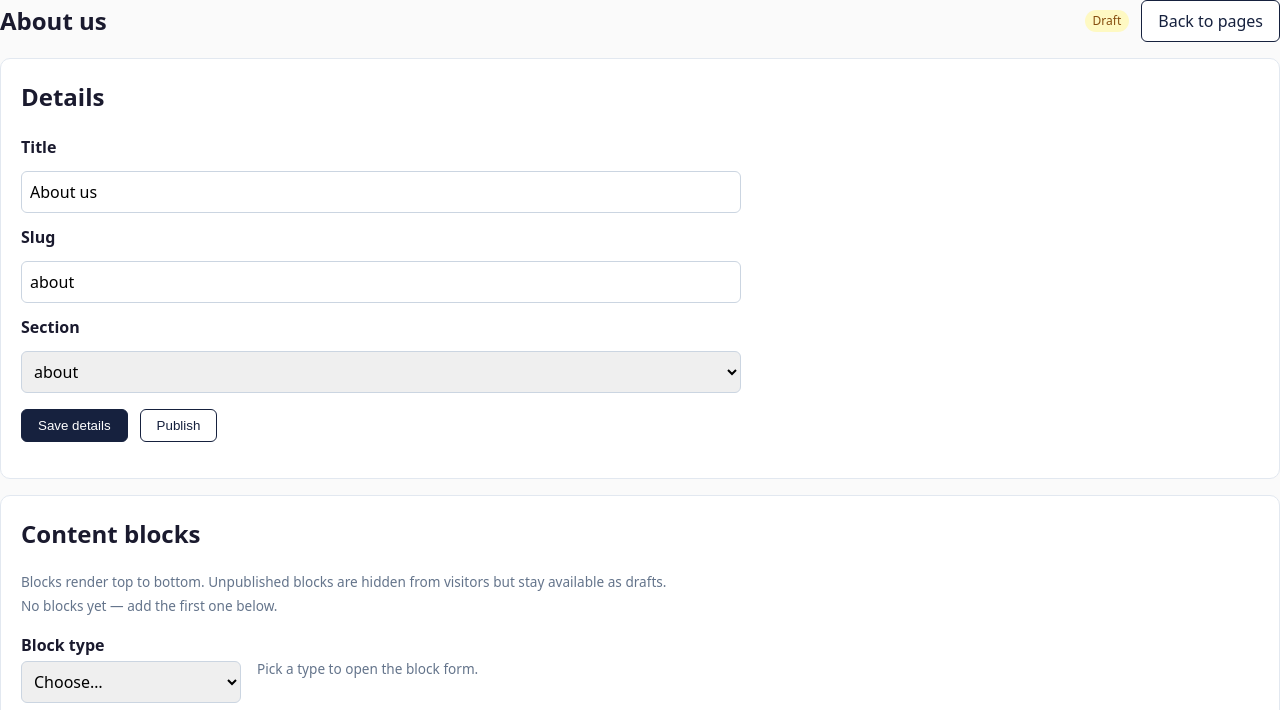
Scenario: admin page workflows › saves only dirty page fields and invalidates narrow query keys
The image size is (1280, 710).
Expected: the field showing "About us" is shown, [21,171,741,213]
Click the button "Save details" at (74, 425), box [21,409,128,442]
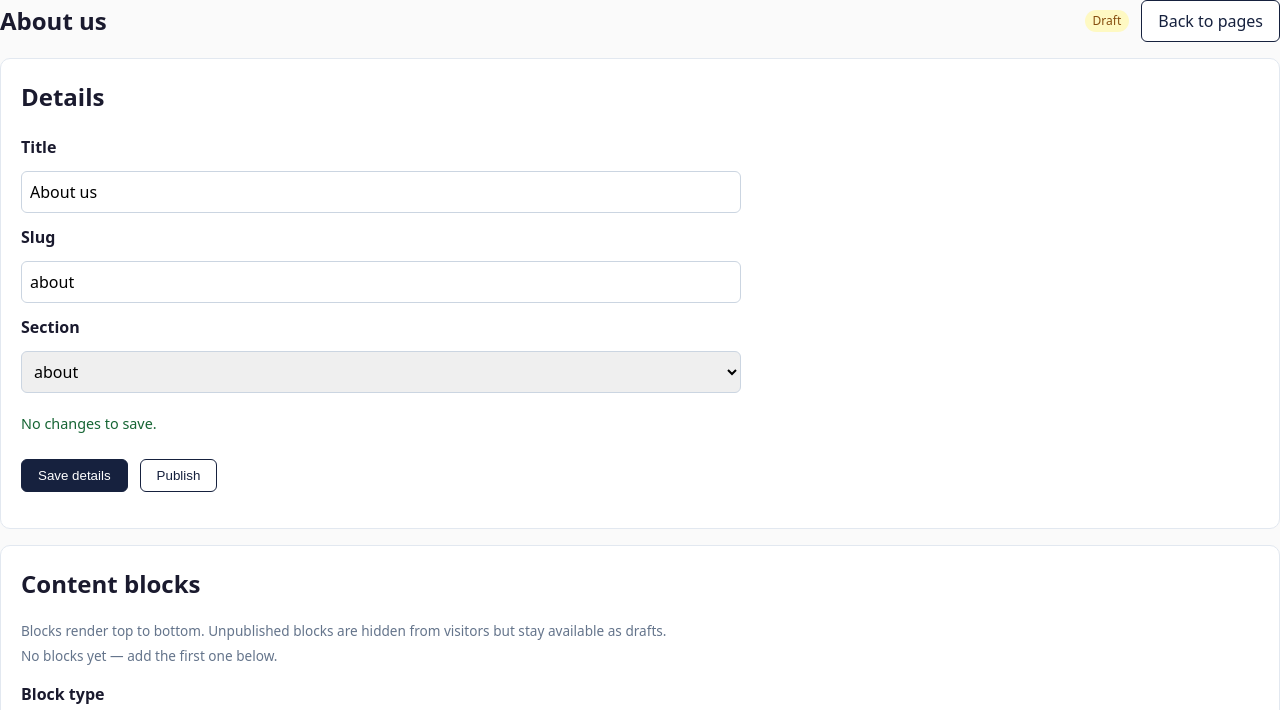
Now the text "No changes to save." is shown, box [21,413,157,434]
Replace the text in the field labelled "Title" with "Renamed" at (381, 192), box [21,171,741,213]
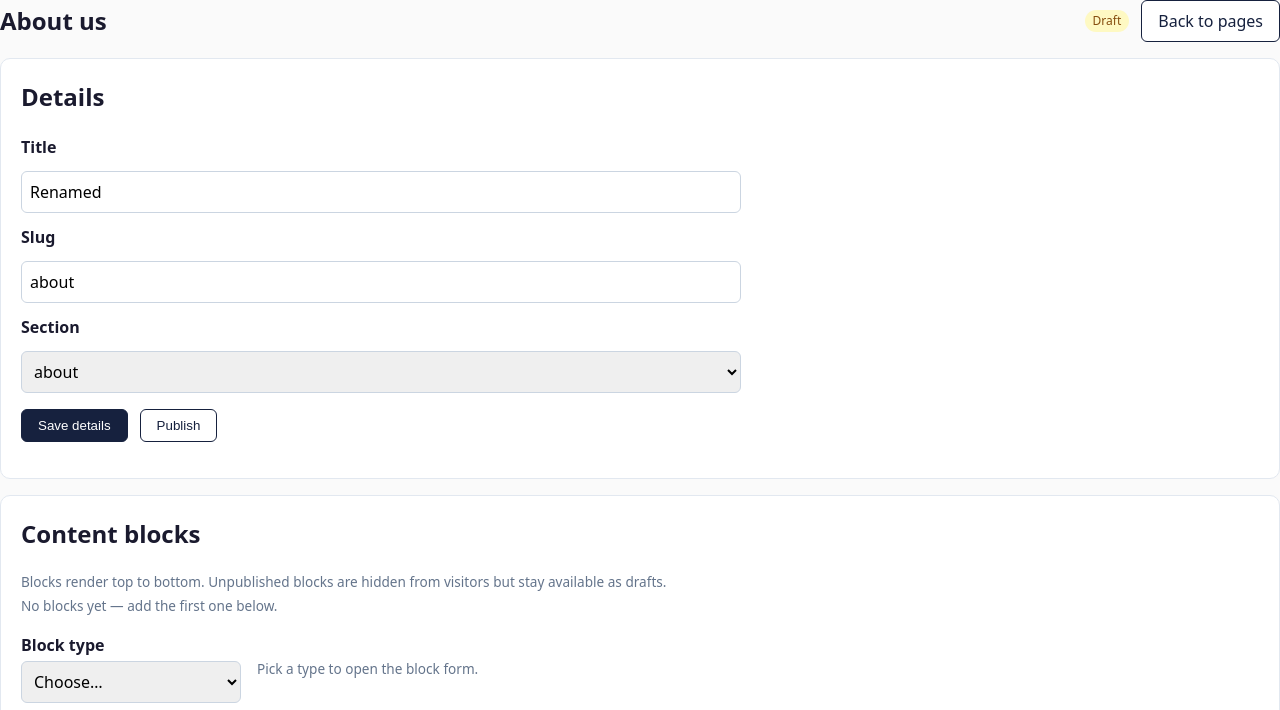
Click the button "Save details" at (74, 425), box [21,409,128,442]
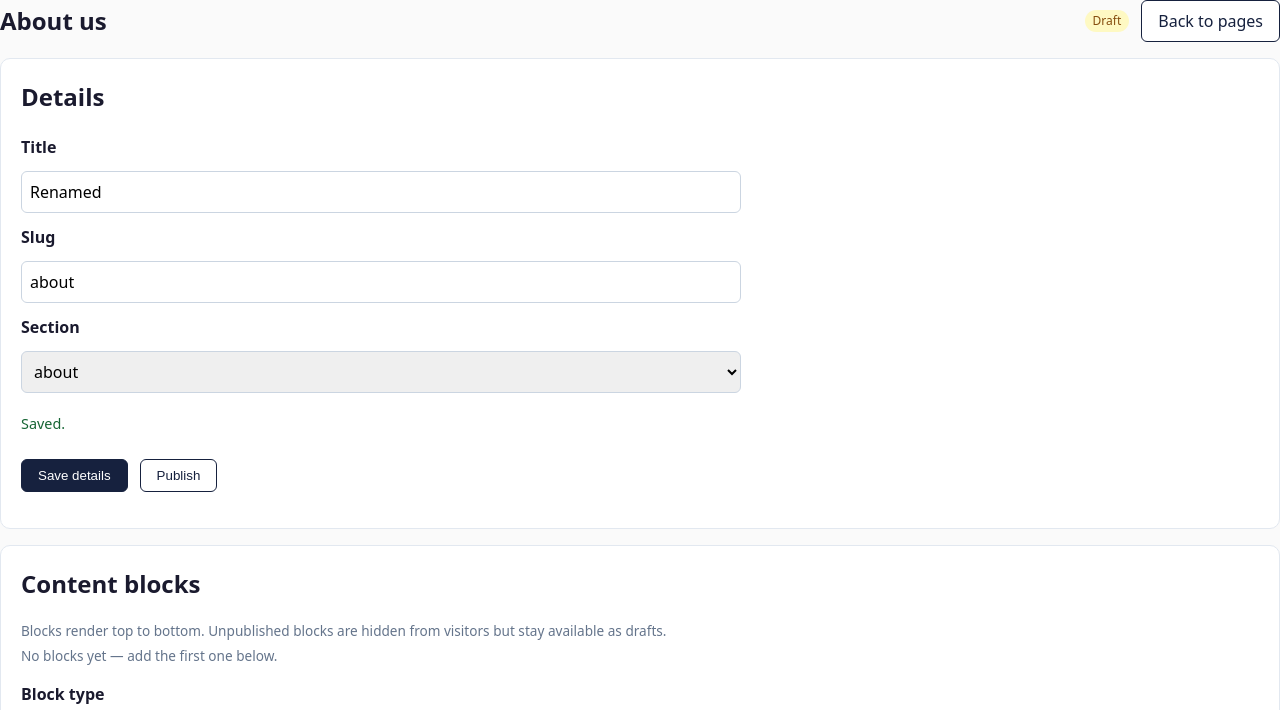
Now the text "Saved." is shown, box [21,413,65,434]
